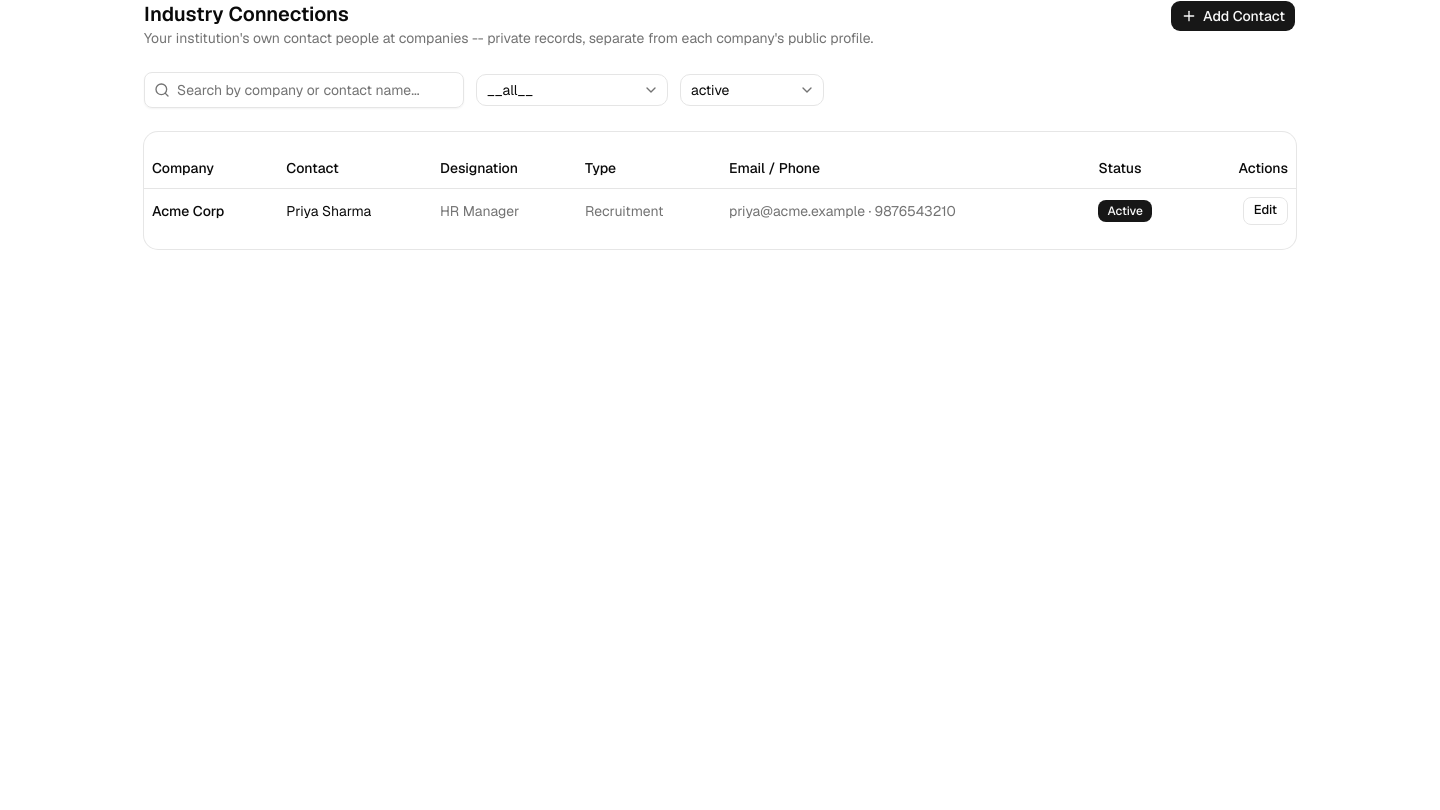
Test: IndustryConnectionsList › opens the add-connection form
Expected: the text "Priya Sharma" is shown, [278,188,432,232]
Click the button "Add Contact": {"x": 1233, "y": 16} [1170,0,1296,32]
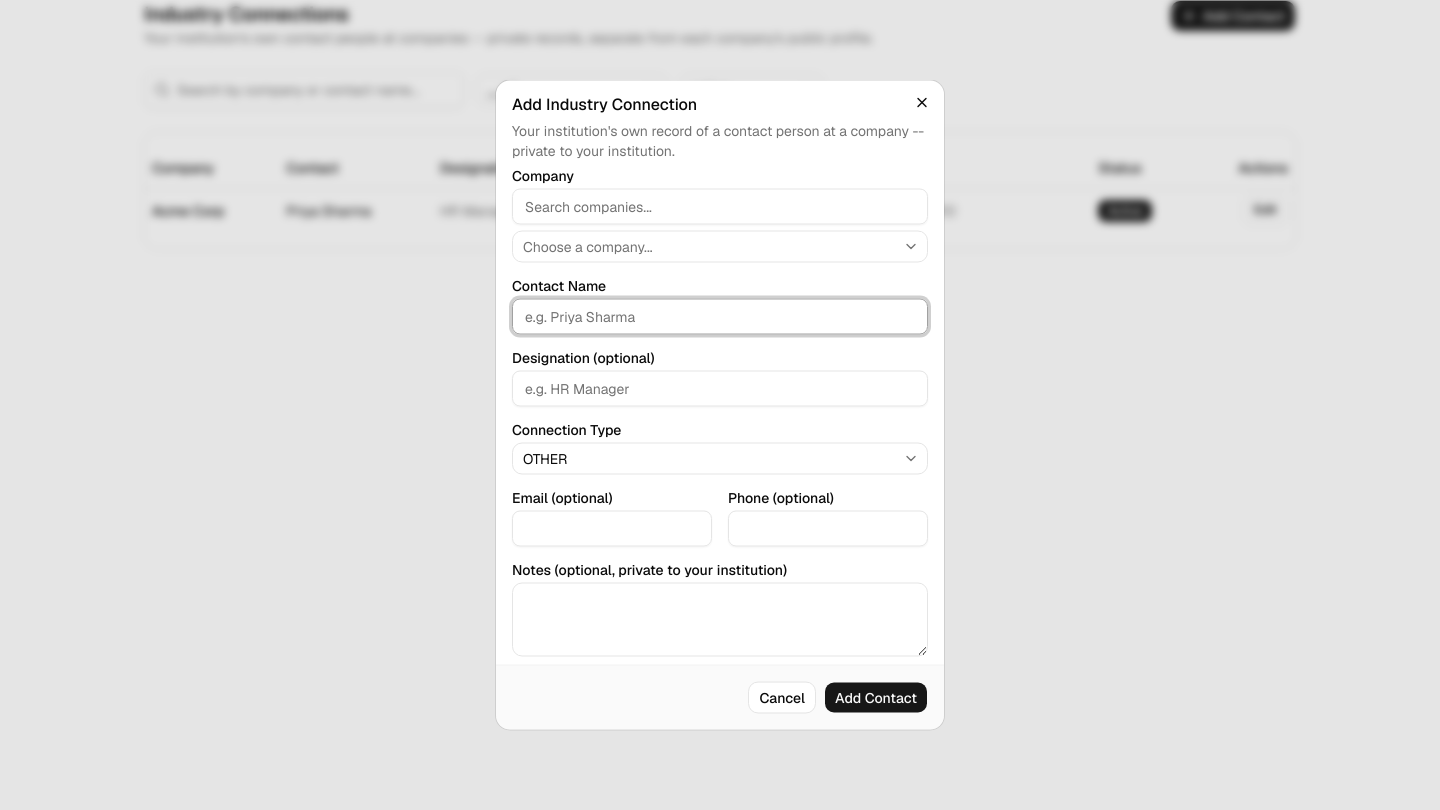
Expected: the heading "Add Industry Connection" is shown, [512,94,697,114]
